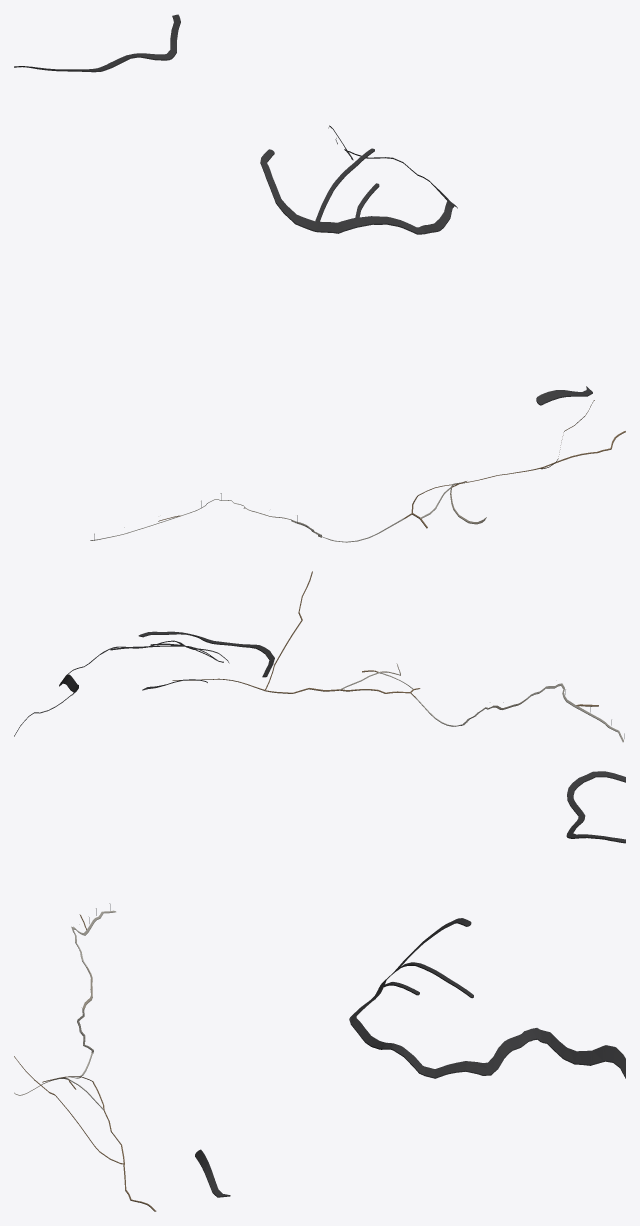
The model's file is 16-54745-29743.030edc77.glb.
3 renders of one model, top to bottom at view 1: azimuth 30°, elevation 25°; view 2: azimuth 150°, elevation 25°; view 3: azimuth 270°, elevation 25°, orthographic. The views are drawn at different scales.
Bounding box in the file's own units: 586 × 297 × 584.
